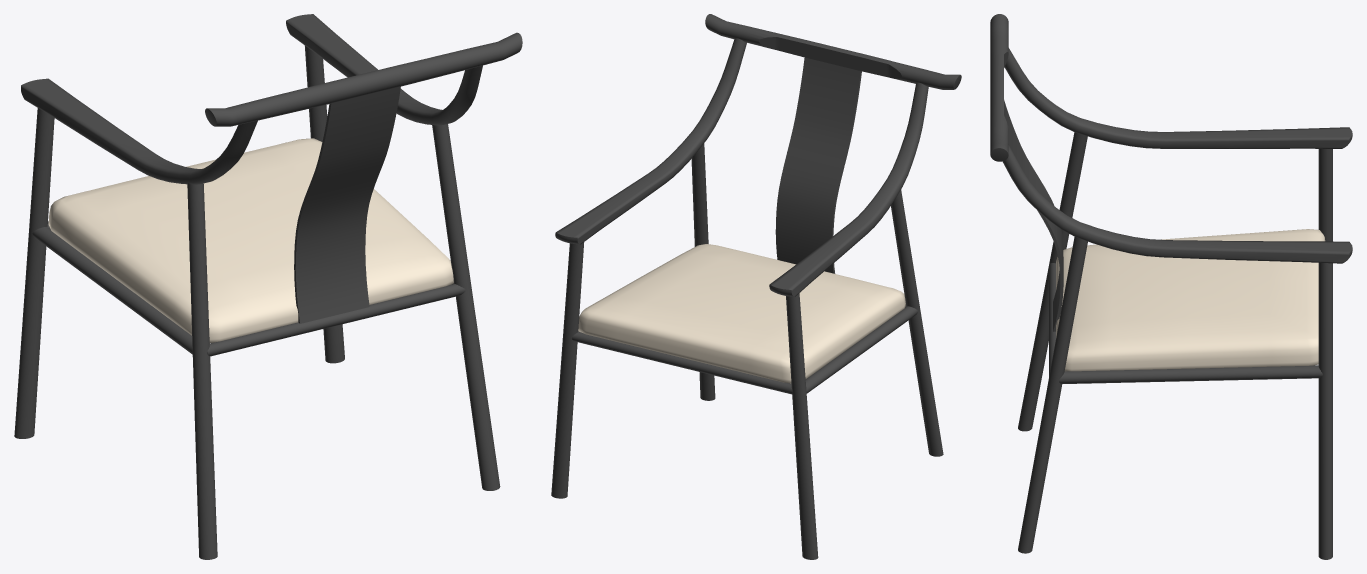
The model's file is chinese_chair03.FBX.
3 renders of one model, left to right at view 1: azimuth 30°, elevation 25°; view 2: azimuth 150°, elevation 25°; view 3: azimuth 270°, elevation 25°, orthographic. The views are drawn at different scales.
Parts seen in each view (by area): view 1: Line002; view 2: Line002; view 3: Line002.
Part boxes in pixels (bbox=[...]): Line002: bbox=[14, 14, 522, 559]; Line002: bbox=[551, 14, 961, 559]; Line002: bbox=[990, 14, 1352, 559].
Bounding box in the file's own units: 26.58 × 35.61 × 28.68.
